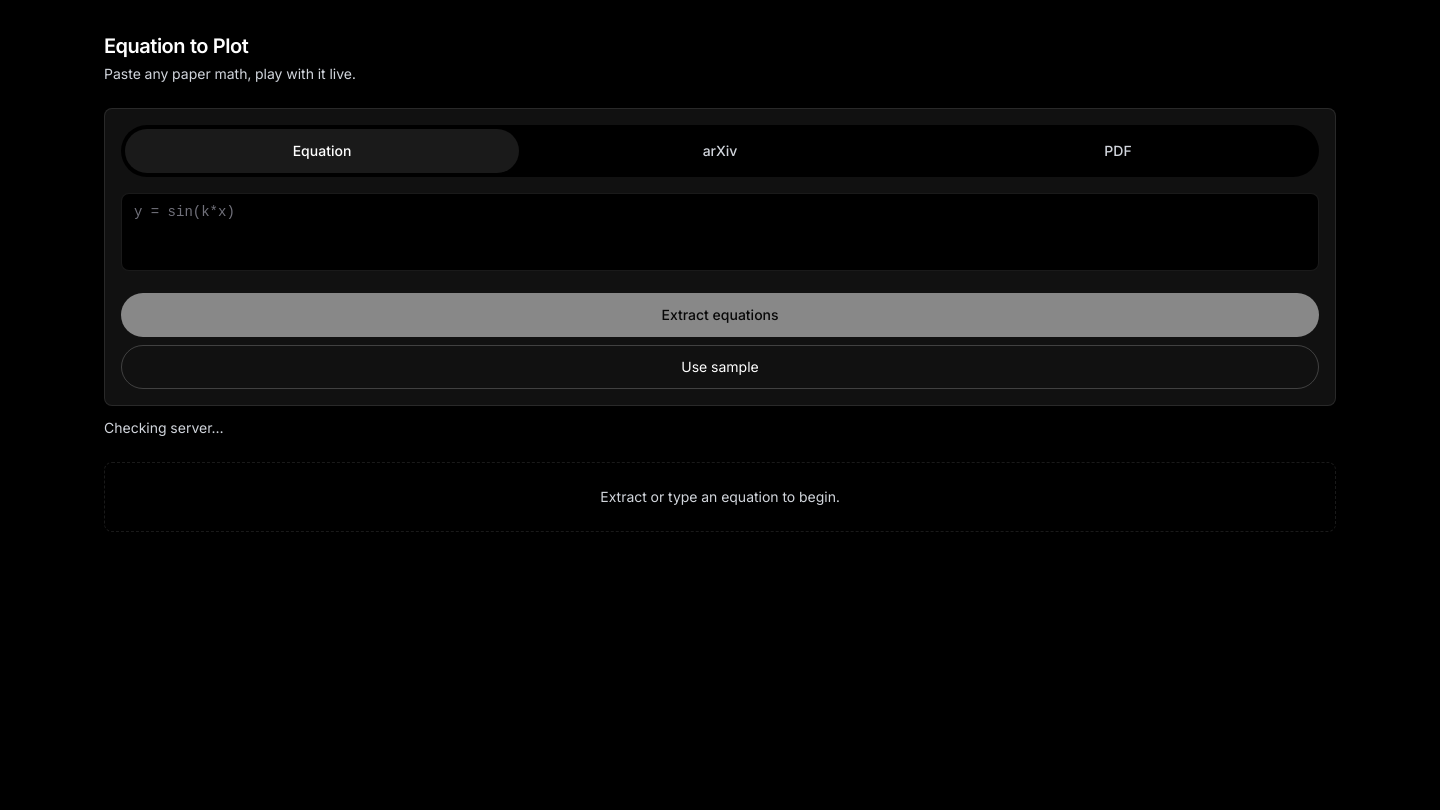
App inline edit type refresh › editing a row to an inequality sets the inequality badge
Click the button "Use sample": (720, 367) [121,345,1319,389]
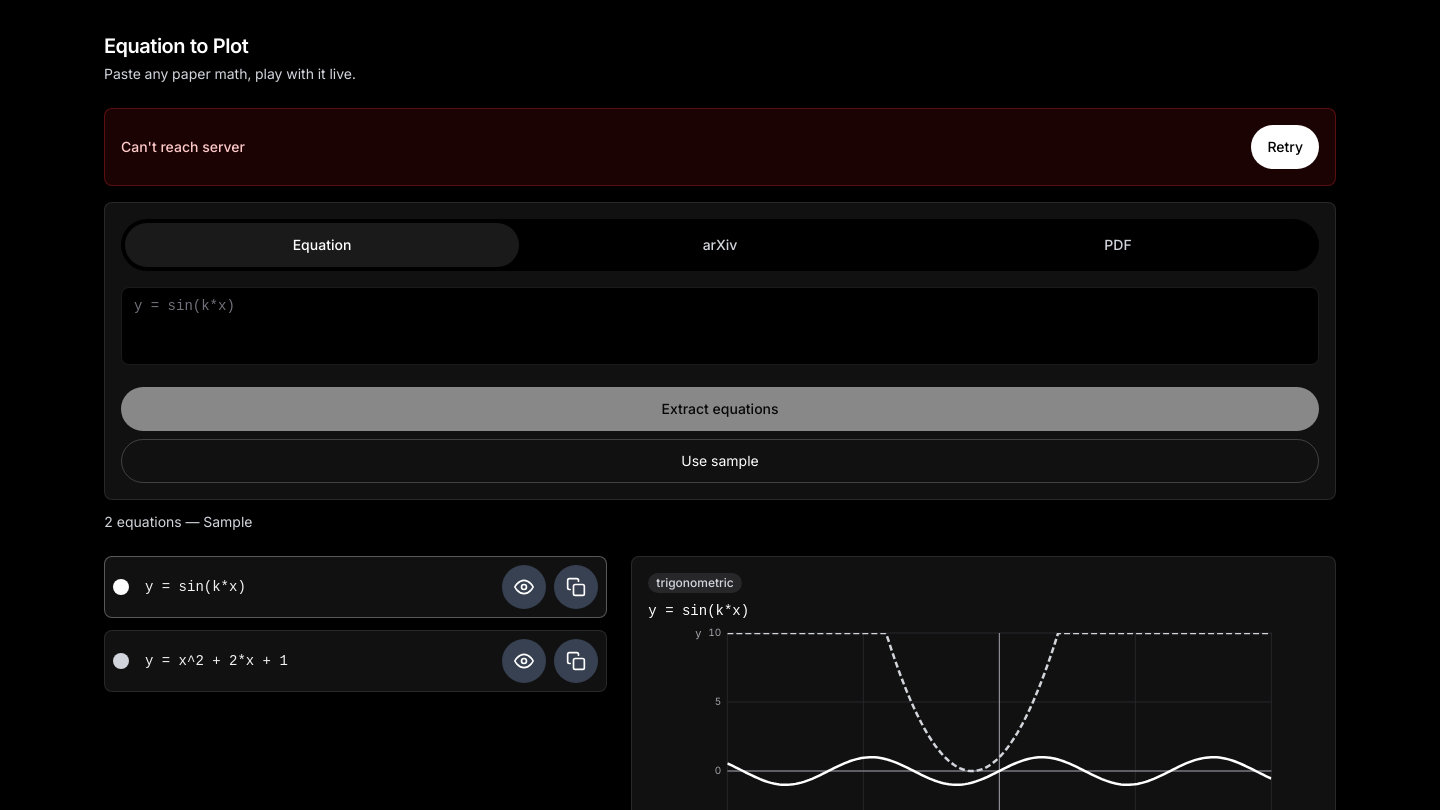
Expected: the text "trigonometric" is shown, [648,573,742,593]
Replace the text in the 1st field named "Equation" with "y < (x - 15)": (320, 587) [145,577,494,597]
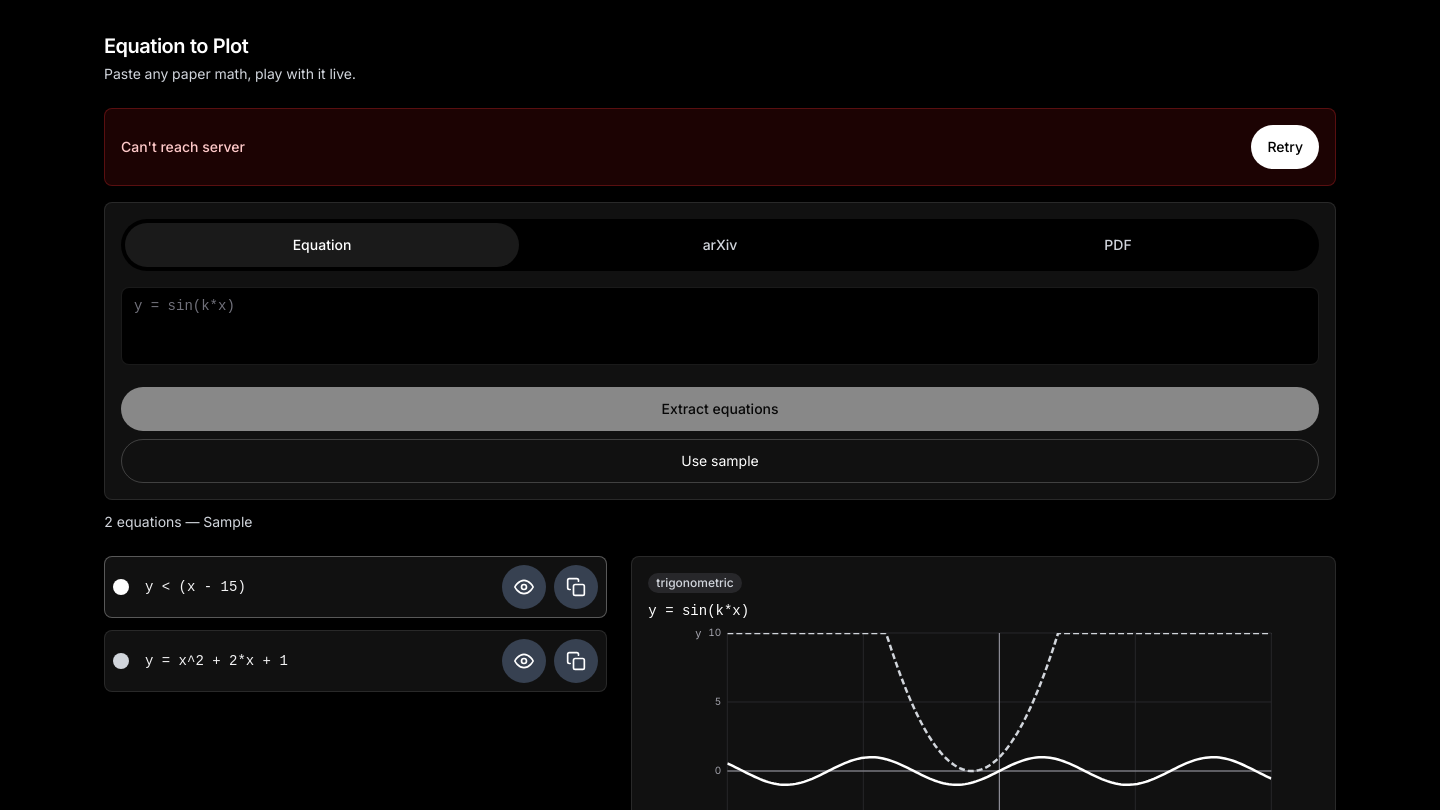
Leave the 1st field named "Equation", box [145,577,494,597]
(page scrolled)
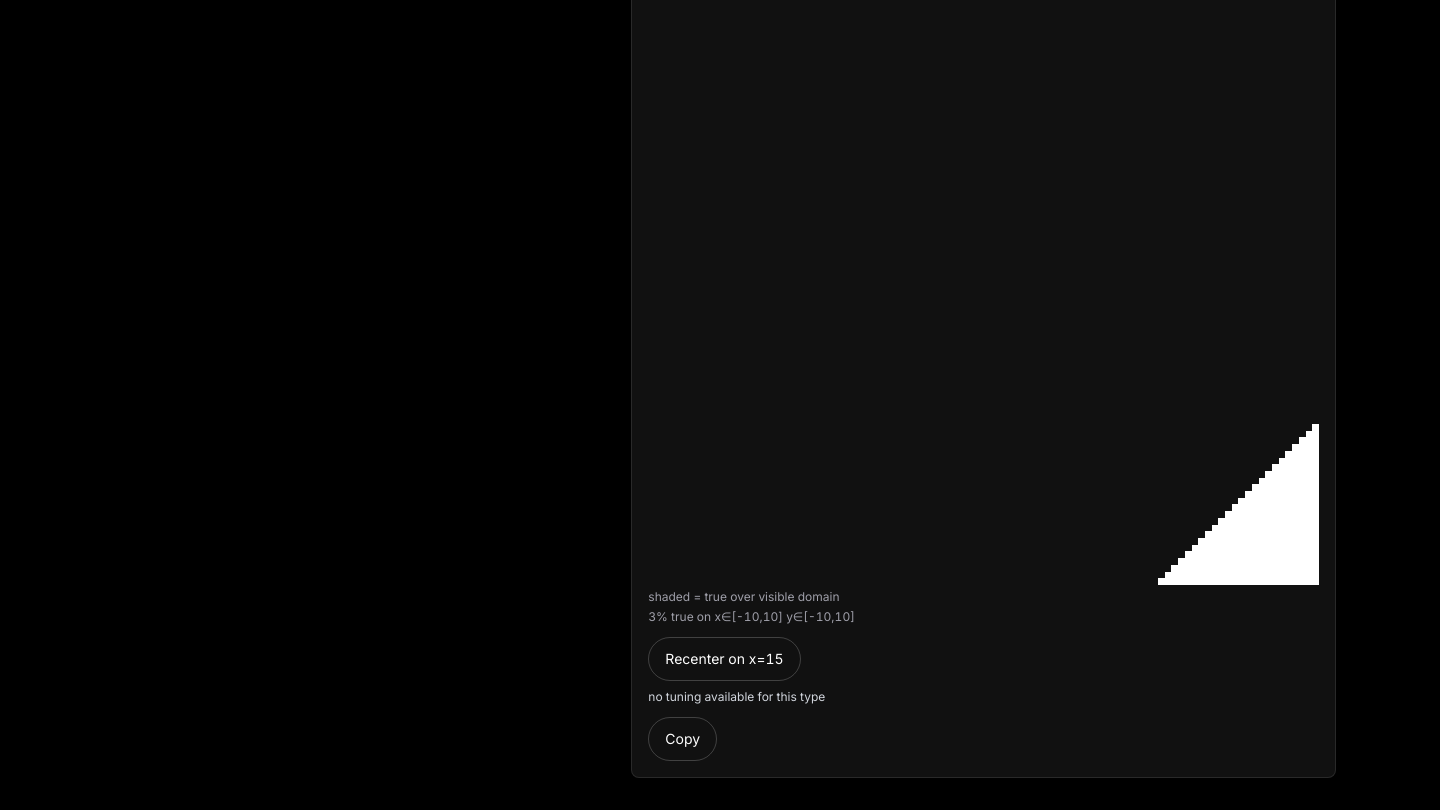
Expected: the text "trigonometric" is gone
Expected: the text "no tuning available for this type" is shown, [648,689,825,704]
